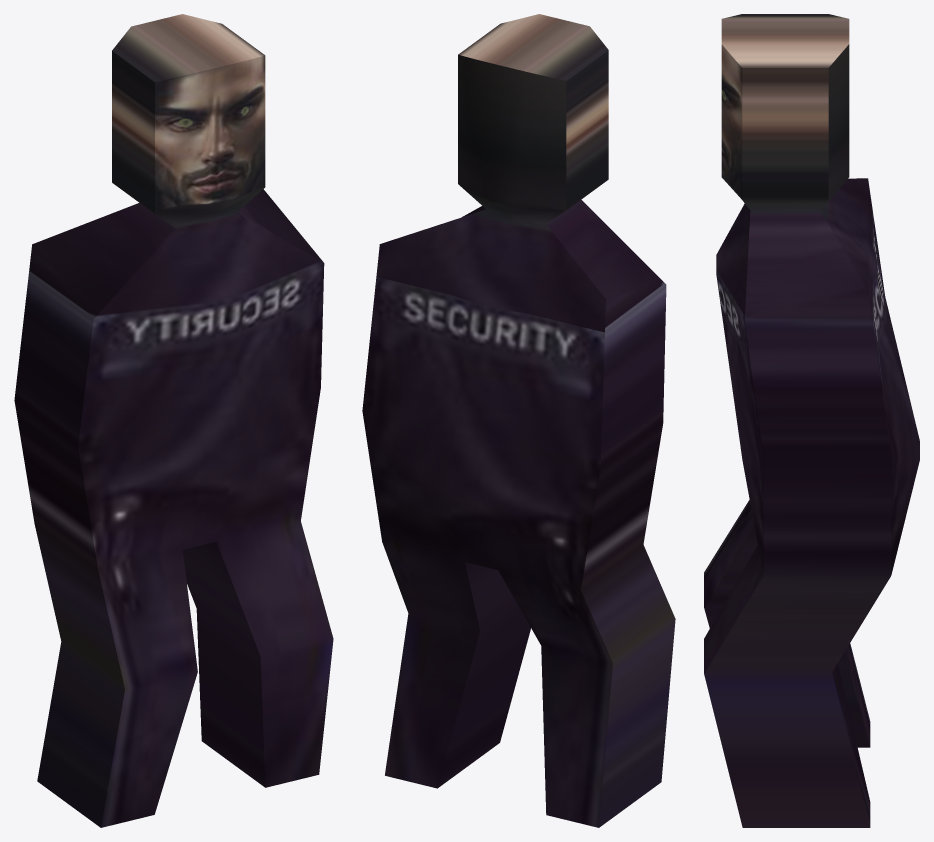
Rendered from guard.fbx.
3 renders of one model, left to right at view 1: azimuth 30°, elevation 25°; view 2: azimuth 150°, elevation 25°; view 3: azimuth 270°, elevation 25°, orthographic. The views are drawn at different scales.
Visible parts, largest first — view 1: guard; view 2: guard; view 3: guard.
Part boxes in pixels (bbox=[...]): guard: bbox=[14, 14, 333, 827]; guard: bbox=[362, 14, 675, 827]; guard: bbox=[704, 14, 919, 827].
Bounding box in the file's own units: 0.6936 × 2.03 × 0.533.
